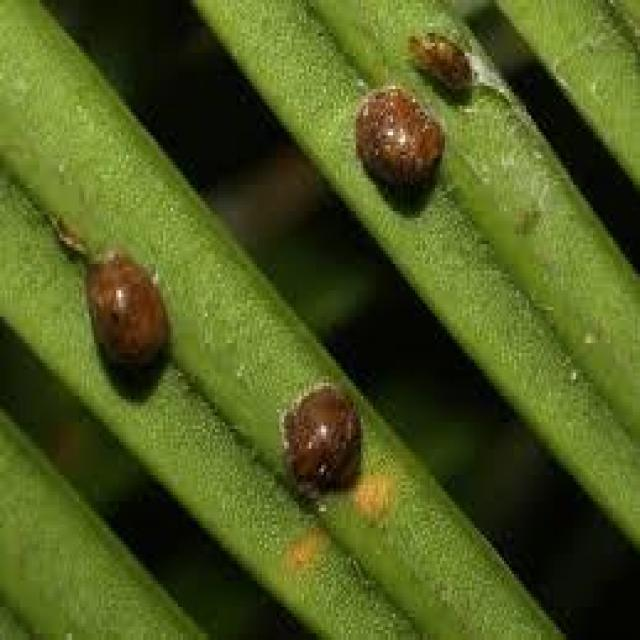BlackScale: (84, 251, 172, 399), (356, 82, 445, 212), (279, 379, 361, 508), (405, 36, 477, 102)
